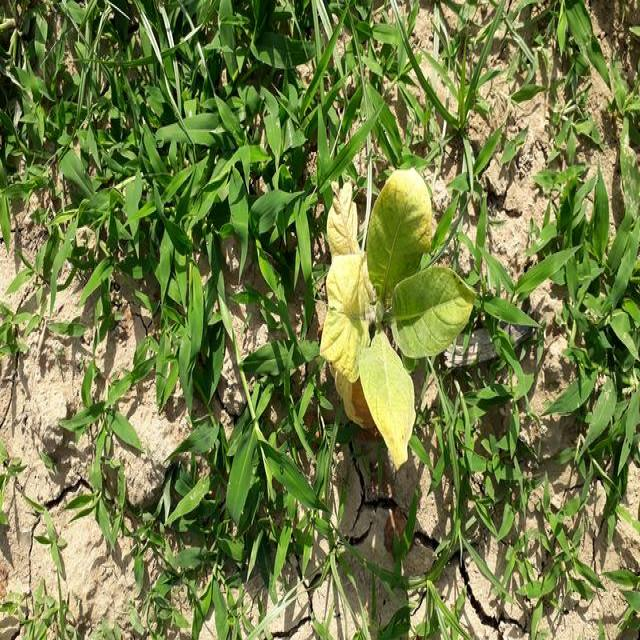crop: (313, 179, 472, 453)
